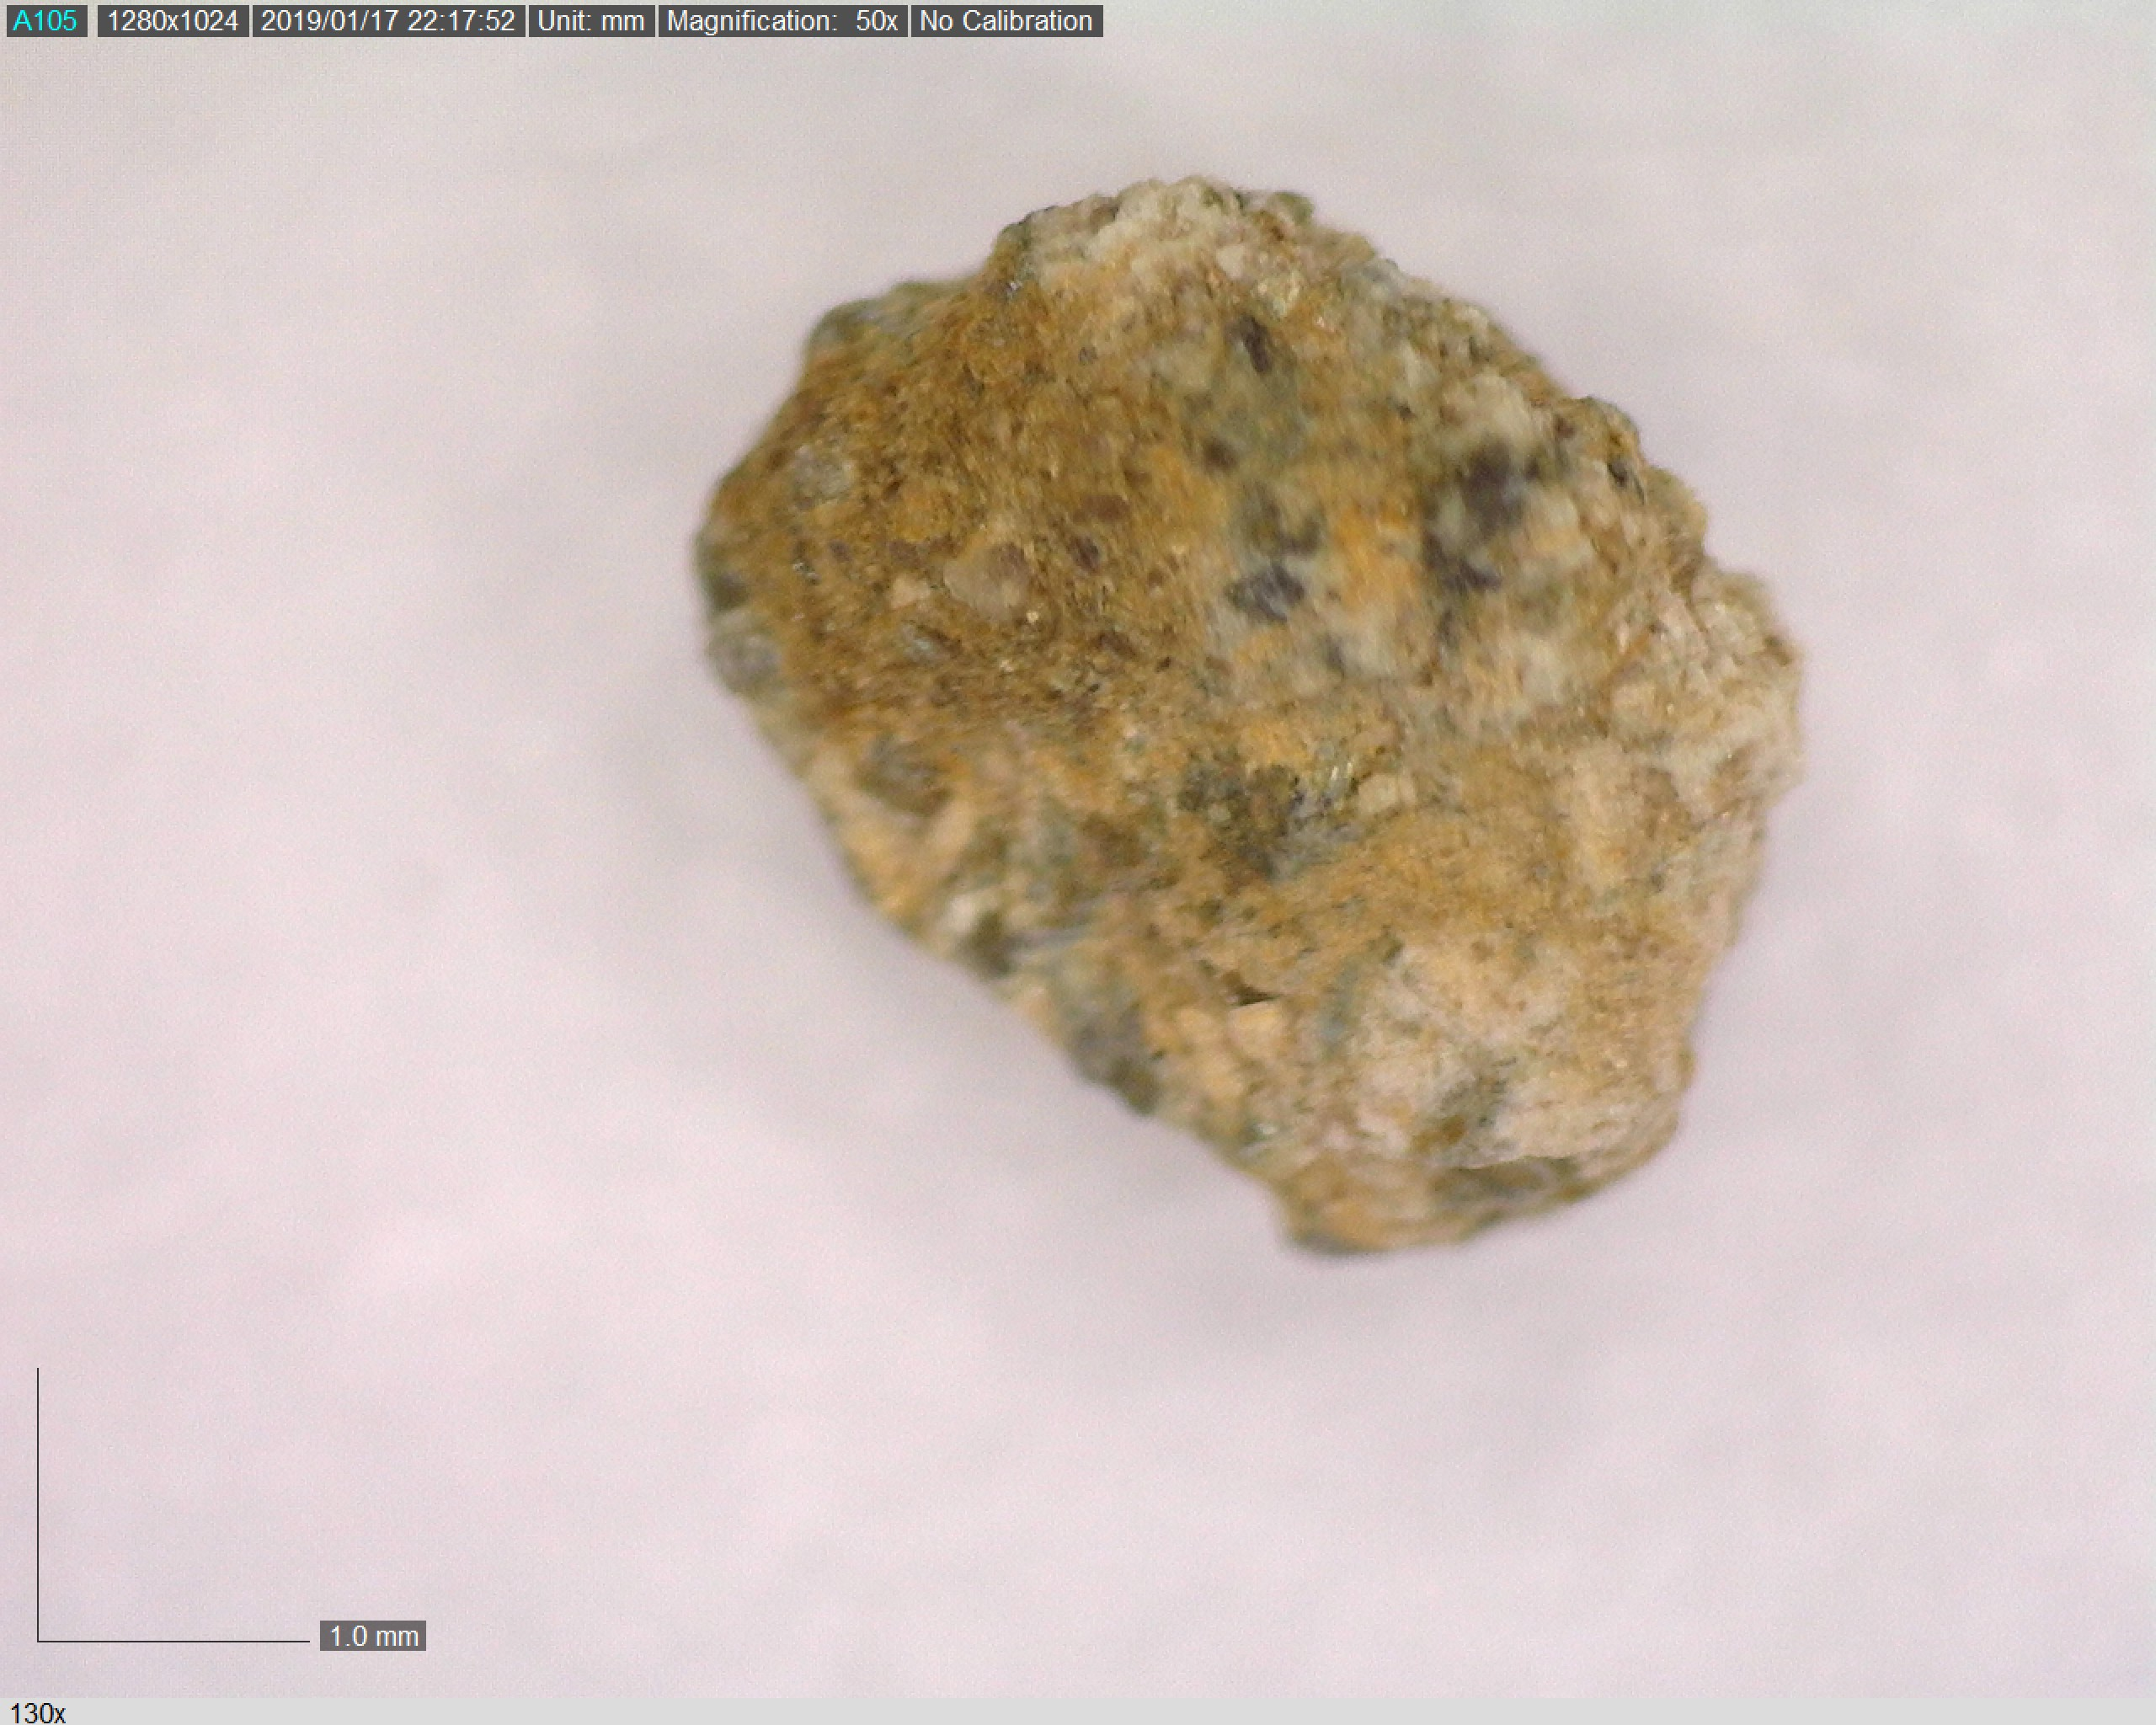Sandstone: (667, 151, 1837, 1288)
